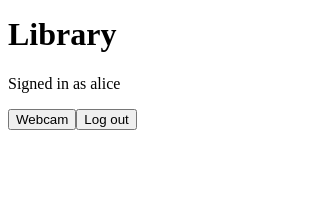
Scenario: a failed log out keeps the user signed in and shows the failure
Click the button "Log out".
click(107, 119)  # box [76,109,137,130]
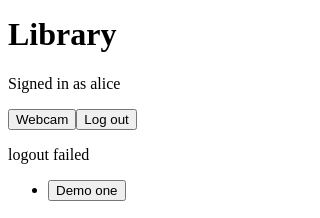
Expected: the heading "Library" is shown, [8,16,116,52]
Now the message reads "logout failed", box [8,146,89,163]
